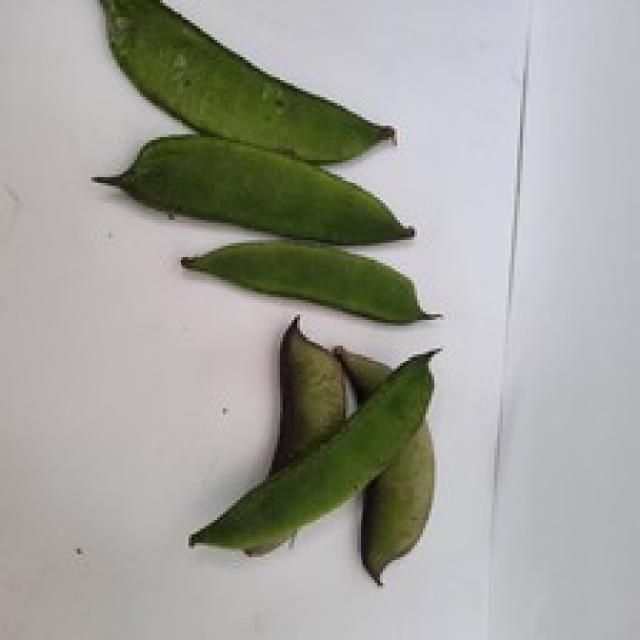Bean: (186, 346, 437, 557), (86, 0, 397, 166), (89, 131, 414, 246), (177, 237, 440, 323)
